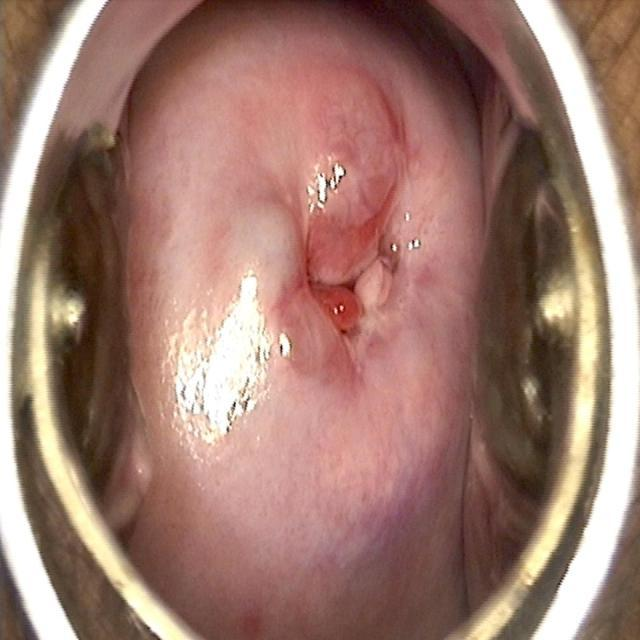cervical_lesion: (143, 135, 412, 476)
